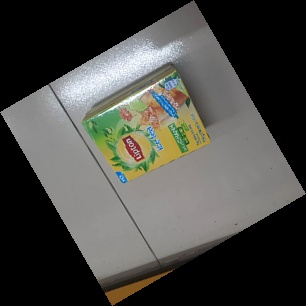LipTon: (83, 62, 211, 184)
